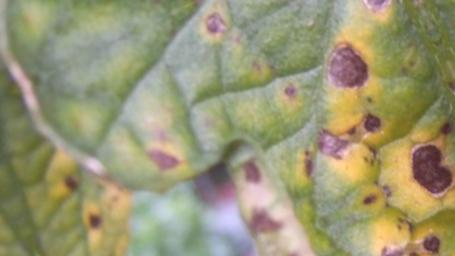Tomato Early blight leaf: (20, 0, 455, 256)
